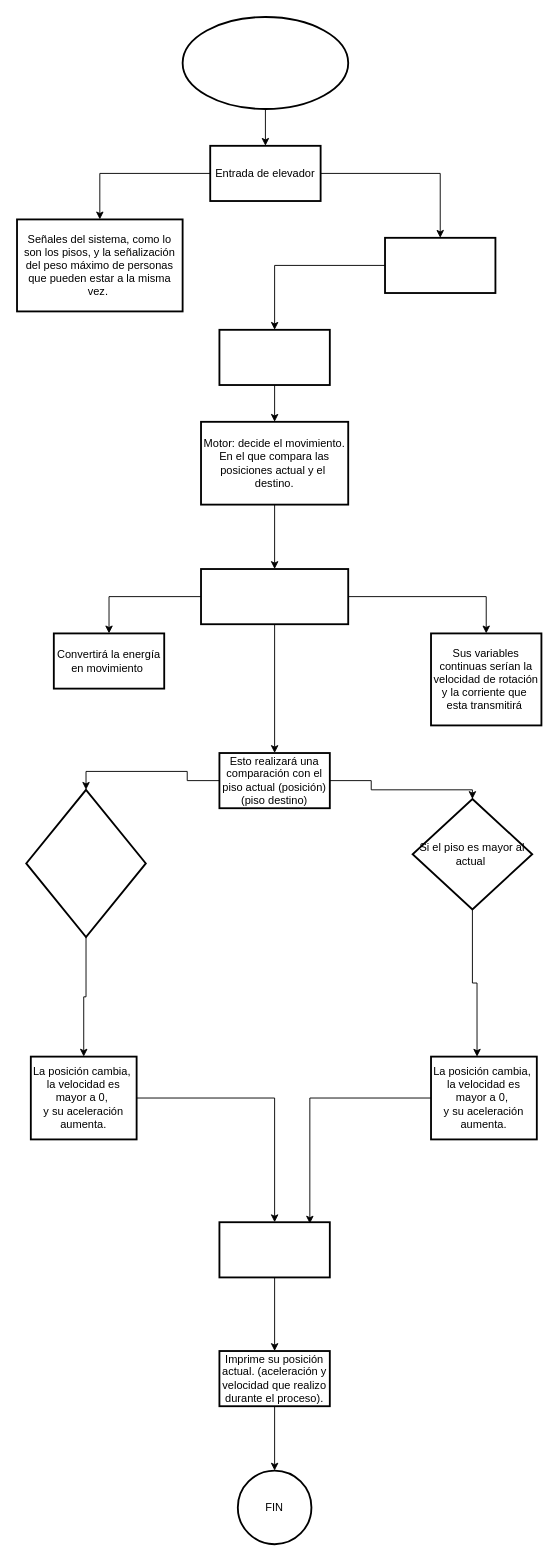
The diagram is 558 pixels wide and 1560 high, and some of its shapes have lost their labels. The centre of each missing label's shape, as x and y in pixels:
"Llegada al piso destino." belongs at (274,1249).
"Motor eléctrico" belongs at (274,596).
"Proceso al seleccionar piso" belongs at (274,356).
"Selección de piso." belongs at (440,264).
"Si el piso es menor al actual" belongs at (85,862).
"Sistema Elevador (Continuo)" belongs at (265,62).
